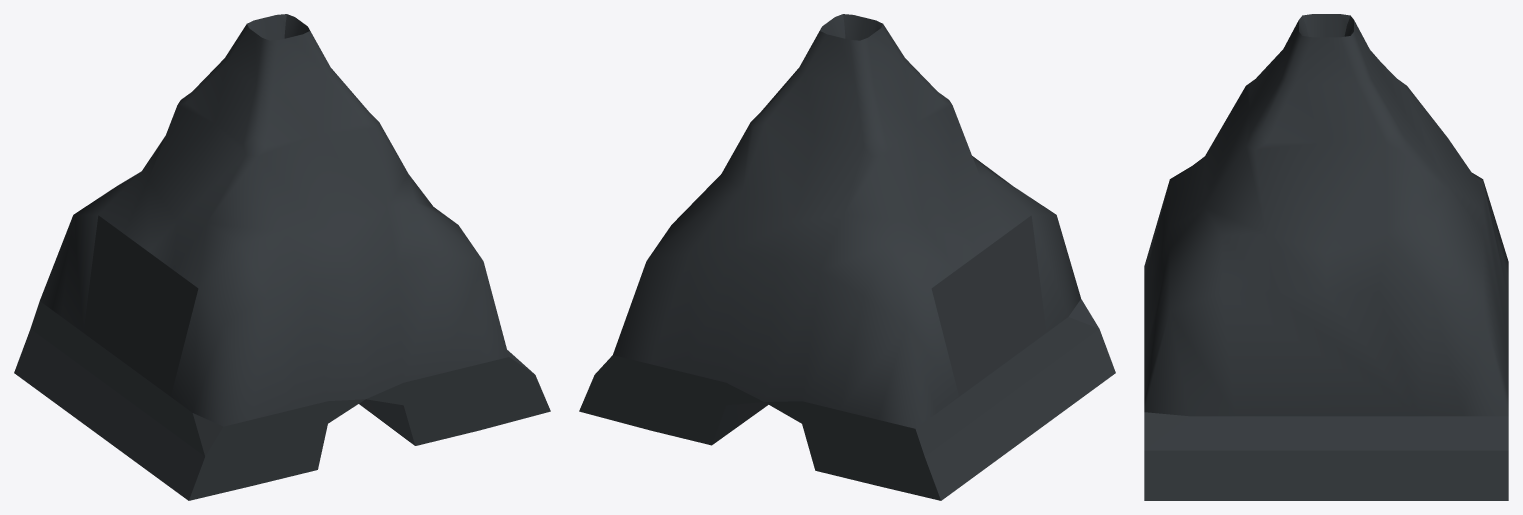
File: Volcano.fbx
3 views of the same model, side by side, from view 1: azimuth 30°, elevation 25°; view 2: azimuth 150°, elevation 25°; view 3: azimuth 270°, elevation 25° (orthographic). The views are drawn at different scales.
Parts seen in each view (by area): view 1: Volcano; view 2: Volcano; view 3: Volcano.
Boxes of the visible parts, x1=… form: Volcano: x1=14, y1=14, x2=550, y2=500; Volcano: x1=579, y1=14, x2=1115, y2=500; Volcano: x1=1144, y1=14, x2=1508, y2=500.
Bounding box in the file's own units: 83.75 × 81.08 × 70.
Materials: 2 (2 with a texture image).
